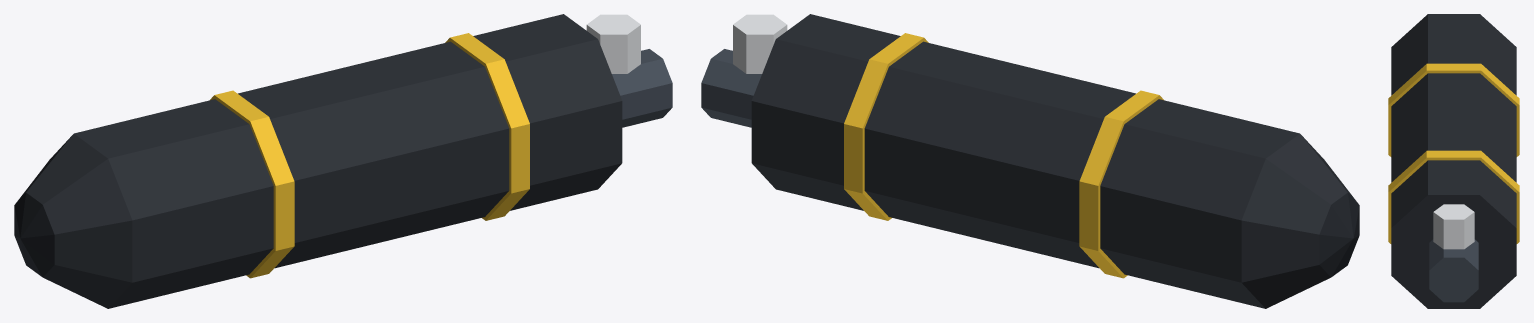
The model's file is tank_hpa_carbon.glb.
The picture shows the model from 3 angles, left to right: view 1: azimuth 30°, elevation 25°; view 2: azimuth 150°, elevation 25°; view 3: azimuth 270°, elevation 25°; orthographic projection. The views are drawn at different scales.
Parts seen in each view (by area): view 1: tank_hpa_carbon; view 2: tank_hpa_carbon; view 3: tank_hpa_carbon.
Boxes of the visible parts, box(x1,y1,x2,y2) form: tank_hpa_carbon: box(14, 14, 672, 308); tank_hpa_carbon: box(701, 14, 1359, 308); tank_hpa_carbon: box(1388, 14, 1519, 308).
Size of the model in its own units: 0.27 by 0.0637 by 0.0637.
